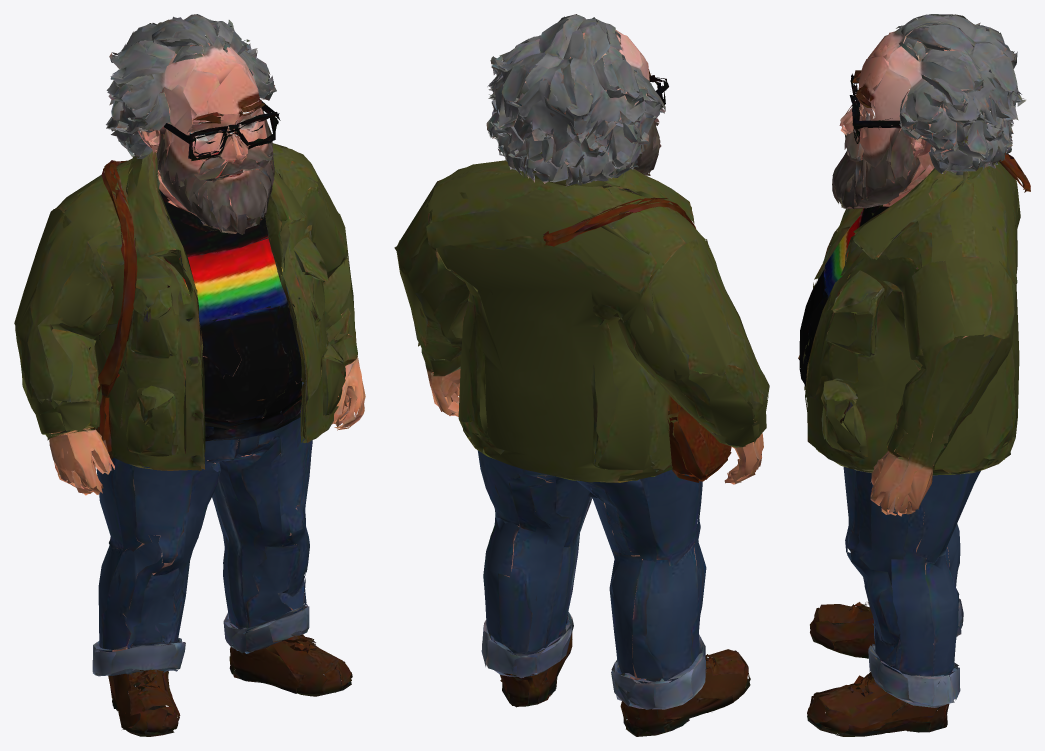
File: joachim.glb
The picture shows the model from 3 angles, left to right: view 1: azimuth 30°, elevation 25°; view 2: azimuth 150°, elevation 25°; view 3: azimuth 270°, elevation 25°; orthographic projection. The views are drawn at different scales.
Parts seen in each view (by area): view 1: Mesh_0; view 2: Mesh_0; view 3: Mesh_0.
Part boxes in pixels (x1,y1,x2,y2): Mesh_0: (14,14,365,736); Mesh_0: (394,14,769,736); Mesh_0: (798,14,1030,736).
Size of the model in its own units: 0.9191 by 1.8 by 0.5596.
1 material, 1 textured.
